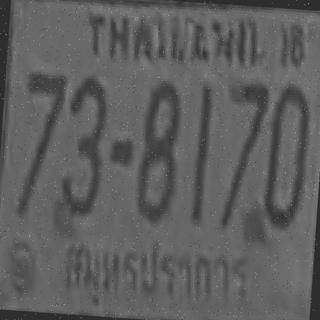N00: (261, 80, 311, 228)
N03: (54, 73, 108, 218)
N07: (14, 68, 66, 217), (218, 79, 268, 229), (221, 80, 268, 220), (222, 79, 268, 206), (20, 69, 66, 180), (21, 70, 66, 161)
N08: (133, 79, 180, 222)
P57: (54, 230, 255, 320)
